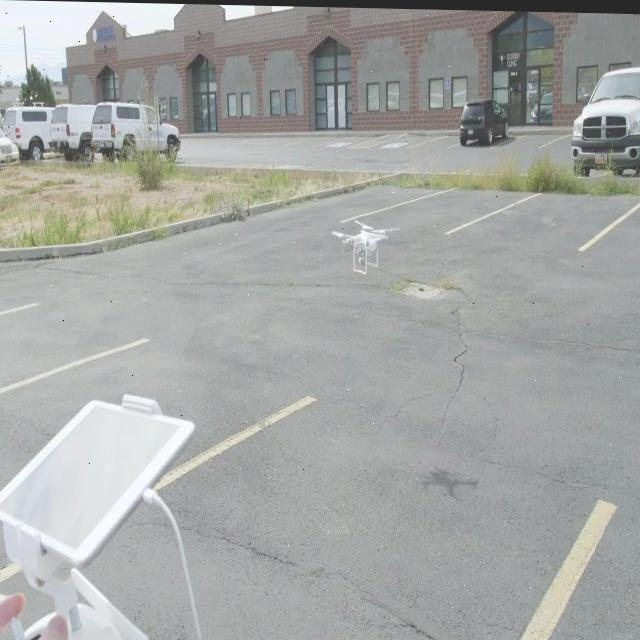drone: (336, 215, 388, 276)
